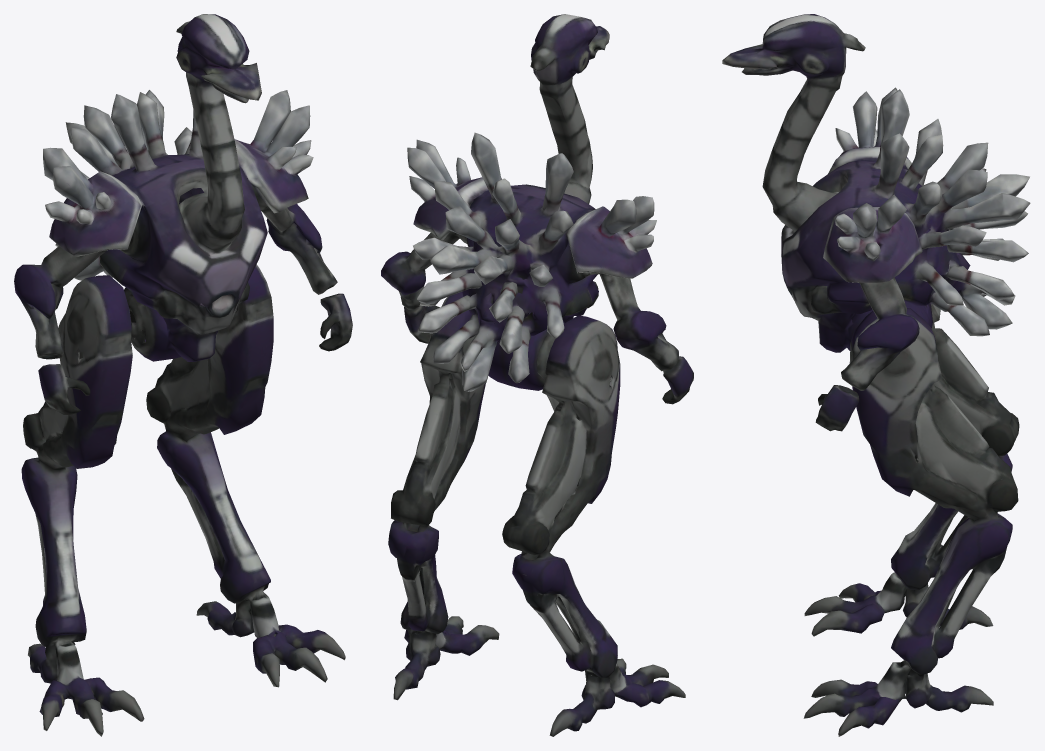
The model's file is vb-boss-laser.glb.
3 views of the same model, side by side, from view 1: azimuth 30°, elevation 25°; view 2: azimuth 150°, elevation 25°; view 3: azimuth 270°, elevation 25° (orthographic). The views are drawn at different scales.
Parts seen in each view (by area): view 1: geometry_0; view 2: geometry_0; view 3: geometry_0.
Boxes of the visible parts, box(x1,y1,x2,y2) form: geometry_0: box(14, 14, 352, 736); geometry_0: box(381, 14, 693, 736); geometry_0: box(722, 14, 1030, 736).
Bounding box in the file's own units: 0.4594 × 1 × 0.4302.
Materials: 1 (1 with a texture image).
